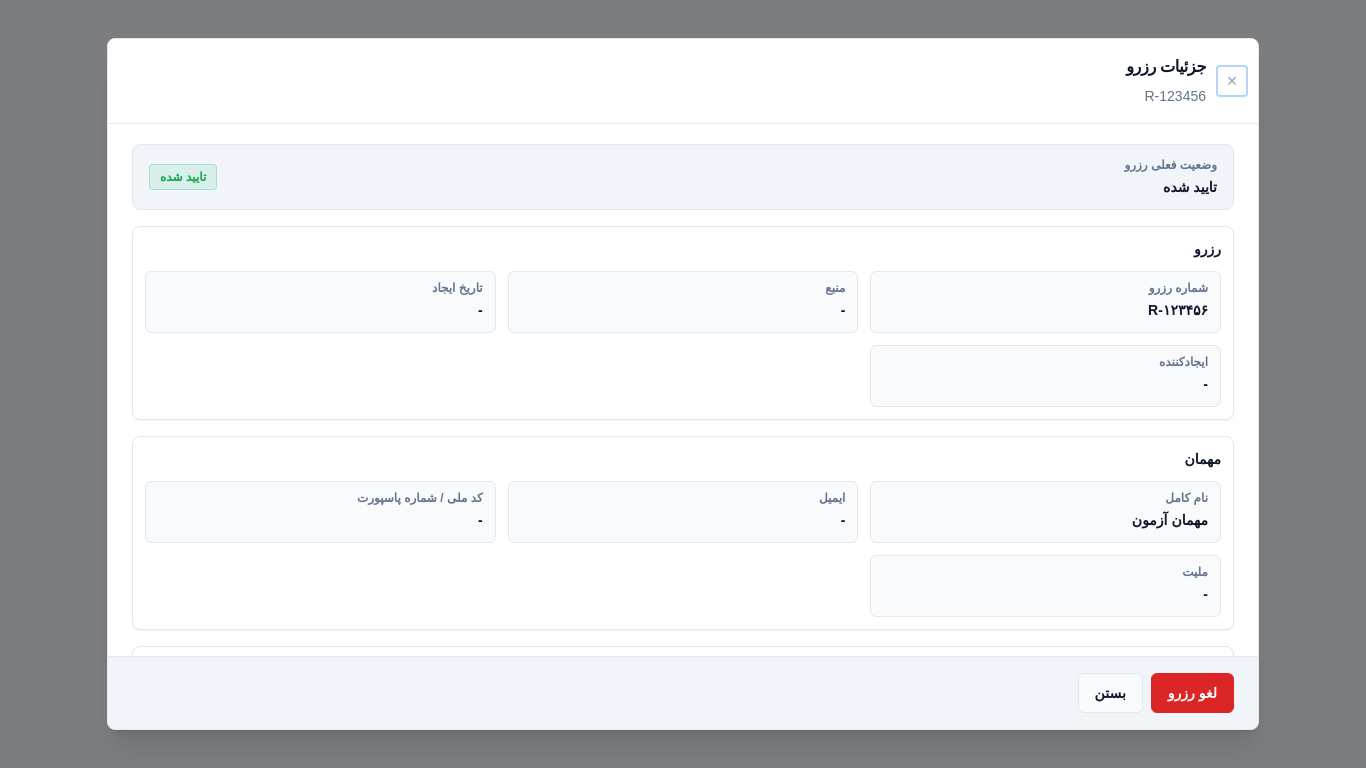
Test: Admin funding-aware cancellation V2 › shows reservation and external-only funding without forcing manual allocation
The width and height of the screenshot is (1366, 768).
Click the button "لغو رزرو". click: (1192, 693)
box: 1151,673 -> 1234,713
(page scrolled)
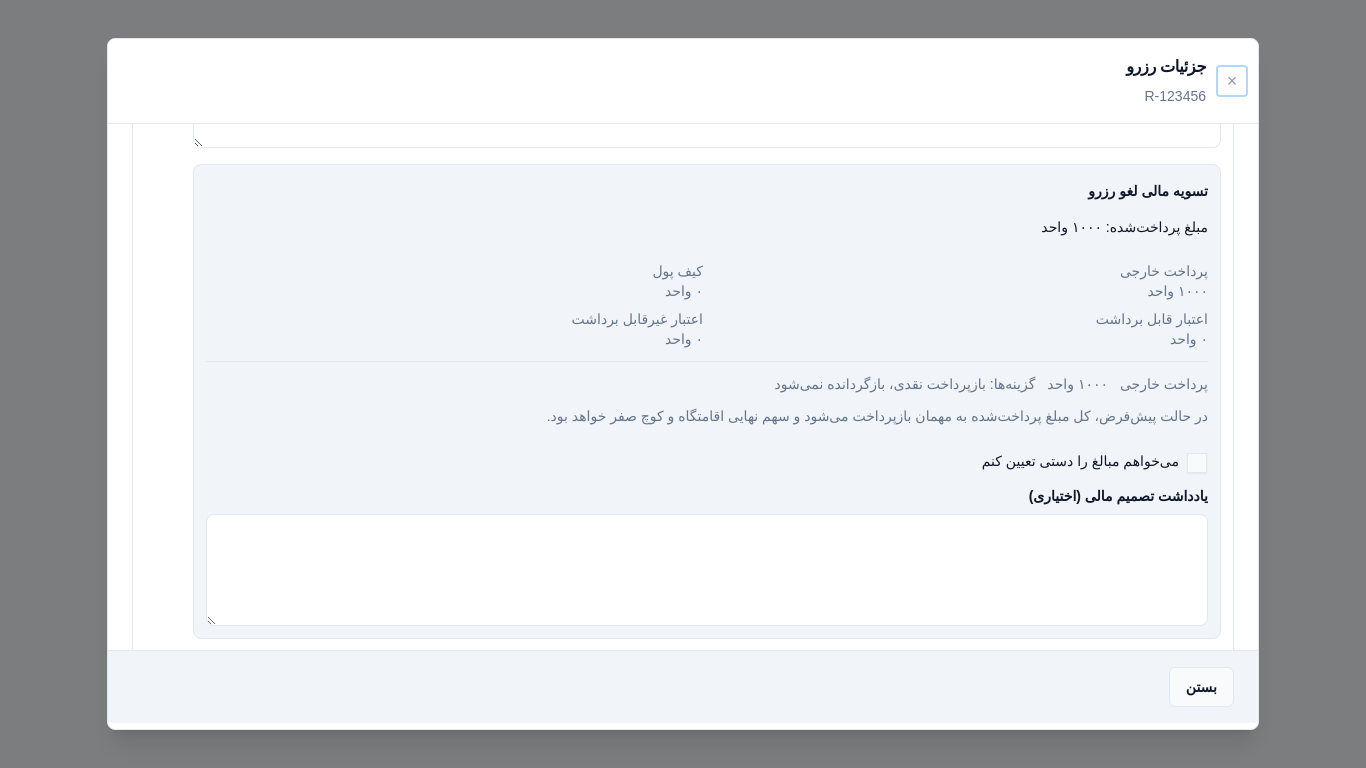
Expected: the text "پرداخت خارجی" in the row of "گزینه‌ها:" is shown, 1120,376 -> 1208,392
Expected: the text "گزینه‌ها: بازپرداخت نقدی، بازگردانده نمی‌شود" is shown, 774,374 -> 1035,394
Expected: the checkbox labelled "می‌خواهم مبالغ را دستی تعیین کنم" is shown, 982,453 -> 1207,473
